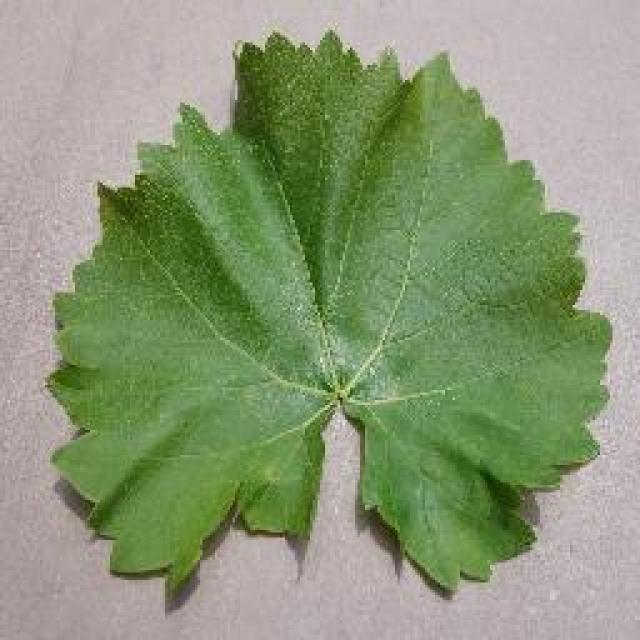Grape___healthy: (41, 26, 620, 602)
